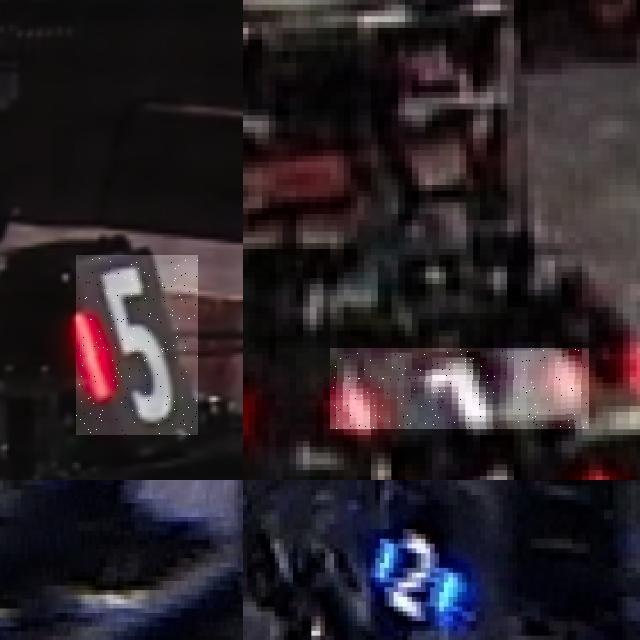B2: (366, 529, 462, 621)
R1: (330, 348, 589, 429), (364, 458, 616, 480)
R5: (76, 255, 198, 435)
